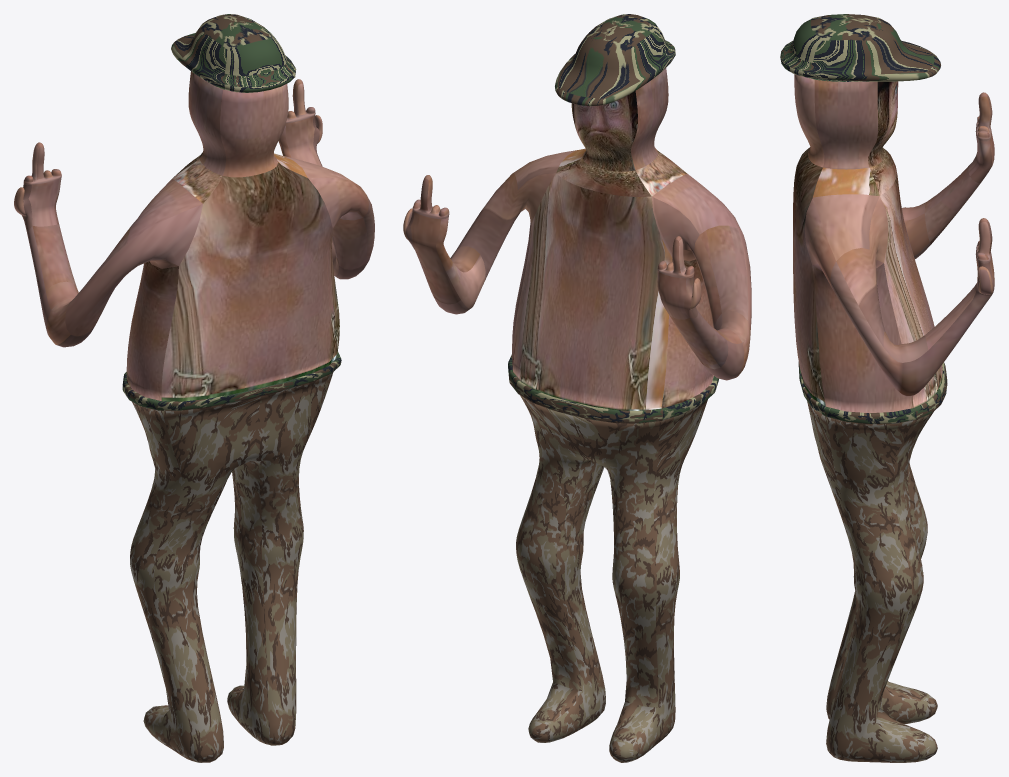
File: DriverMenu.fbx
3 views of the same model, side by side, from view 1: azimuth 30°, elevation 25°; view 2: azimuth 150°, elevation 25°; view 3: azimuth 270°, elevation 25° (orthographic). The views are drawn at different scales.
Visible parts, largest first — view 1: Cube; view 2: Cube; view 3: Cube.
Boxes of the visible parts, bbox=[...] form: Cube: bbox=[14, 14, 374, 762]; Cube: bbox=[403, 14, 751, 762]; Cube: bbox=[780, 14, 994, 762].
Bounding box in the file's own units: 80.07 × 174 × 46.81.
